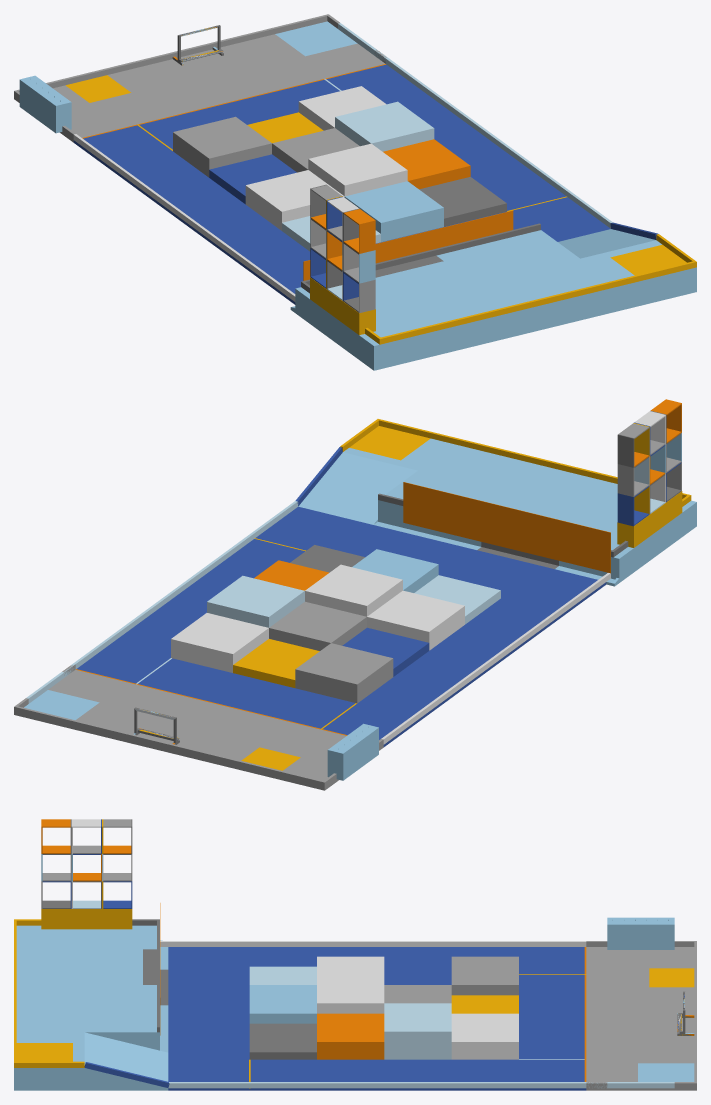
File: thearena.dae
The picture shows the model from 3 angles, top to bottom: view 1: azimuth 30°, elevation 25°; view 2: azimuth 150°, elevation 25°; view 3: azimuth 270°, elevation 25°; orthographic projection. The views are drawn at different scales.
Visible parts, largest first — view 1: All- Zone-arena (×25); view 2: All- Zone-arena (×25); view 3: All- Zone-arena (×26).
Part boxes in pixels (box(x1,y1,x2,y2)): All- Zone-arena (×25): box(14, 14, 696, 370); All- Zone-arena (×25): box(14, 419, 696, 790); All- Zone-arena (×26): box(14, 909, 696, 1090).
Bounding box in the file's own units: 6.16 × 12.17 × 2.47.
